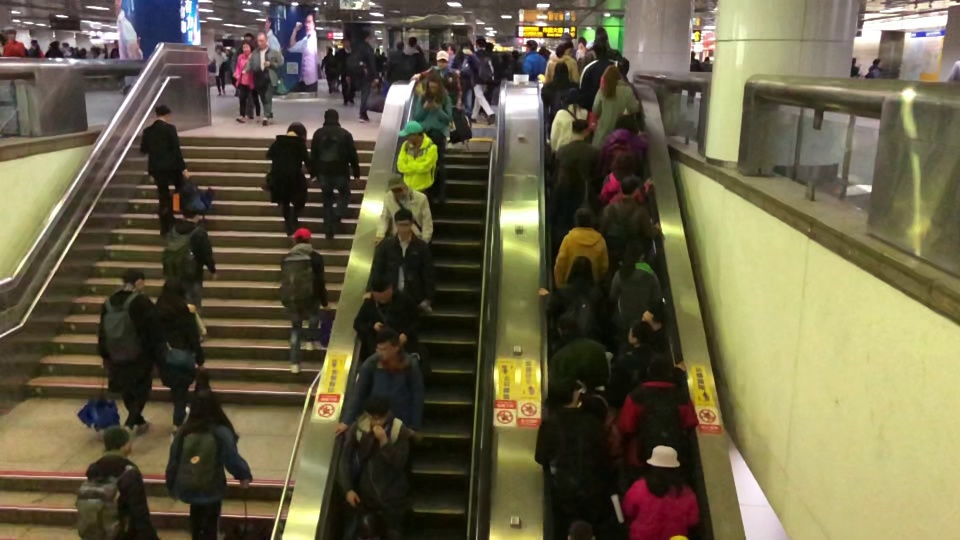person_head: (95, 270, 198, 435), (643, 441, 683, 495), (189, 388, 221, 423), (362, 393, 391, 431), (103, 425, 133, 458), (565, 255, 593, 289), (554, 375, 581, 410), (625, 319, 654, 349), (375, 328, 402, 360), (398, 120, 425, 149), (573, 362, 602, 389), (647, 354, 676, 381), (601, 62, 624, 96), (641, 300, 667, 330), (369, 275, 395, 304), (555, 310, 581, 339), (556, 156, 579, 187), (385, 173, 410, 201), (613, 112, 640, 137), (567, 518, 597, 540), (161, 277, 187, 302), (393, 208, 414, 237), (618, 175, 642, 199), (609, 151, 636, 172), (573, 204, 596, 228), (122, 268, 145, 291), (622, 241, 645, 263), (426, 71, 443, 99), (570, 118, 589, 142), (285, 121, 308, 140), (290, 226, 312, 245), (552, 61, 570, 84), (555, 40, 575, 59), (182, 203, 200, 223), (154, 103, 172, 122), (435, 48, 449, 71), (593, 39, 609, 59), (323, 107, 340, 124), (594, 25, 609, 43), (565, 86, 579, 103), (459, 37, 472, 55), (239, 40, 254, 55), (256, 31, 268, 49), (474, 37, 487, 50), (5, 28, 17, 42), (360, 30, 372, 44), (526, 39, 538, 53), (242, 32, 254, 45), (407, 36, 417, 48), (446, 43, 456, 55), (872, 57, 883, 67), (342, 37, 351, 49), (396, 41, 405, 51), (689, 48, 697, 59), (850, 54, 858, 65), (215, 44, 223, 54), (703, 54, 711, 64), (30, 39, 38, 47), (113, 38, 119, 47), (327, 46, 333, 54)
person_vbox: (165, 389, 253, 540), (336, 327, 424, 470), (533, 376, 614, 516), (614, 353, 700, 475), (332, 396, 411, 528), (73, 425, 161, 540), (373, 173, 433, 312), (152, 278, 206, 432), (158, 204, 217, 343), (619, 443, 700, 540), (279, 227, 332, 374), (361, 206, 431, 314), (140, 104, 192, 234), (310, 107, 360, 239), (612, 320, 687, 406), (537, 255, 609, 342), (353, 272, 420, 365), (597, 176, 662, 270), (607, 240, 663, 347), (547, 312, 611, 405), (264, 121, 315, 235), (572, 361, 623, 463), (590, 63, 643, 158), (415, 73, 453, 205), (410, 50, 462, 143), (553, 206, 608, 293), (549, 158, 603, 243), (394, 119, 439, 207), (243, 32, 284, 127), (599, 112, 649, 182), (540, 61, 584, 139), (554, 119, 601, 190), (579, 43, 626, 111), (345, 32, 379, 123), (462, 38, 497, 125), (599, 154, 655, 207), (579, 23, 630, 78), (550, 88, 591, 154), (449, 37, 481, 121), (230, 33, 256, 120), (537, 41, 581, 85), (232, 41, 255, 123), (334, 37, 357, 105), (398, 37, 431, 81), (208, 44, 232, 96), (522, 37, 548, 81), (683, 49, 701, 107), (383, 40, 406, 82), (1, 26, 27, 58), (321, 45, 337, 94), (865, 54, 885, 78), (848, 53, 862, 78), (26, 38, 41, 58), (700, 53, 713, 74), (109, 37, 121, 58)
